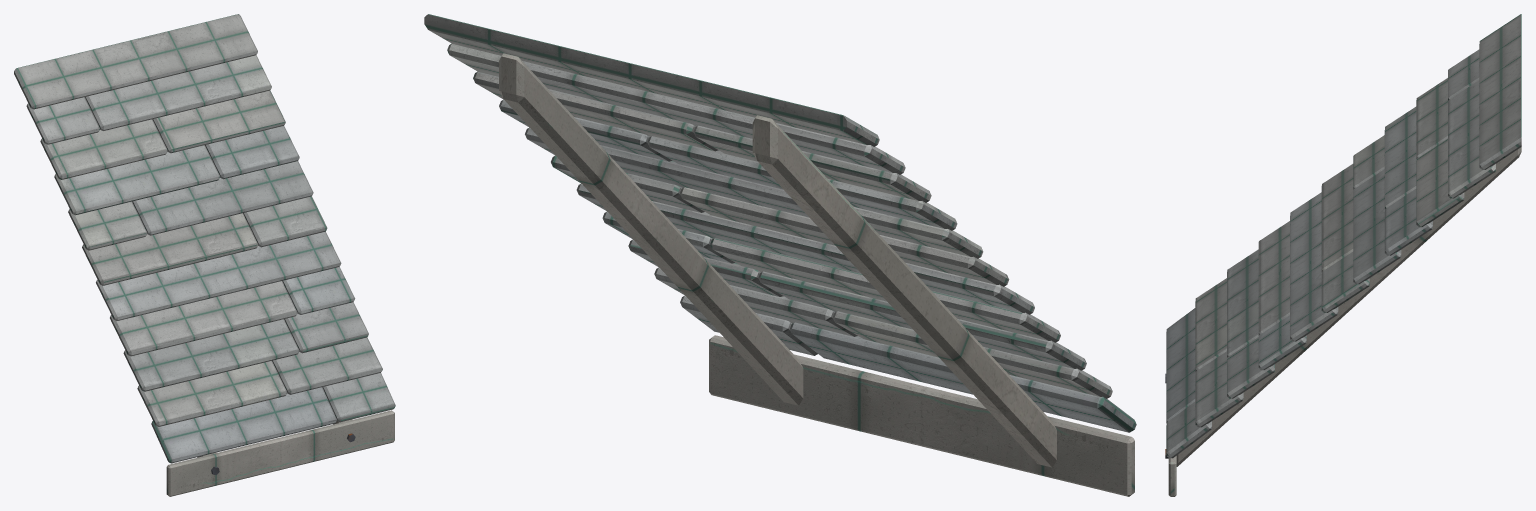
The model's file is egimli_cati.glb.
3 renders of one model, left to right at view 1: azimuth 30°, elevation 25°; view 2: azimuth 150°, elevation 25°; view 3: azimuth 270°, elevation 25°, orthographic. The views are drawn at different scales.
Visible parts, largest first — view 1: egimli_cati; view 2: egimli_cati; view 3: egimli_cati.
Part boxes in pixels (bbox=[...]): egimli_cati: bbox=[14, 14, 395, 496]; egimli_cati: bbox=[424, 14, 1136, 496]; egimli_cati: bbox=[1165, 14, 1521, 496].
Size of the model in its own units: 3 by 4 by 3.6.
Materials: 1 (1 with a texture image).
